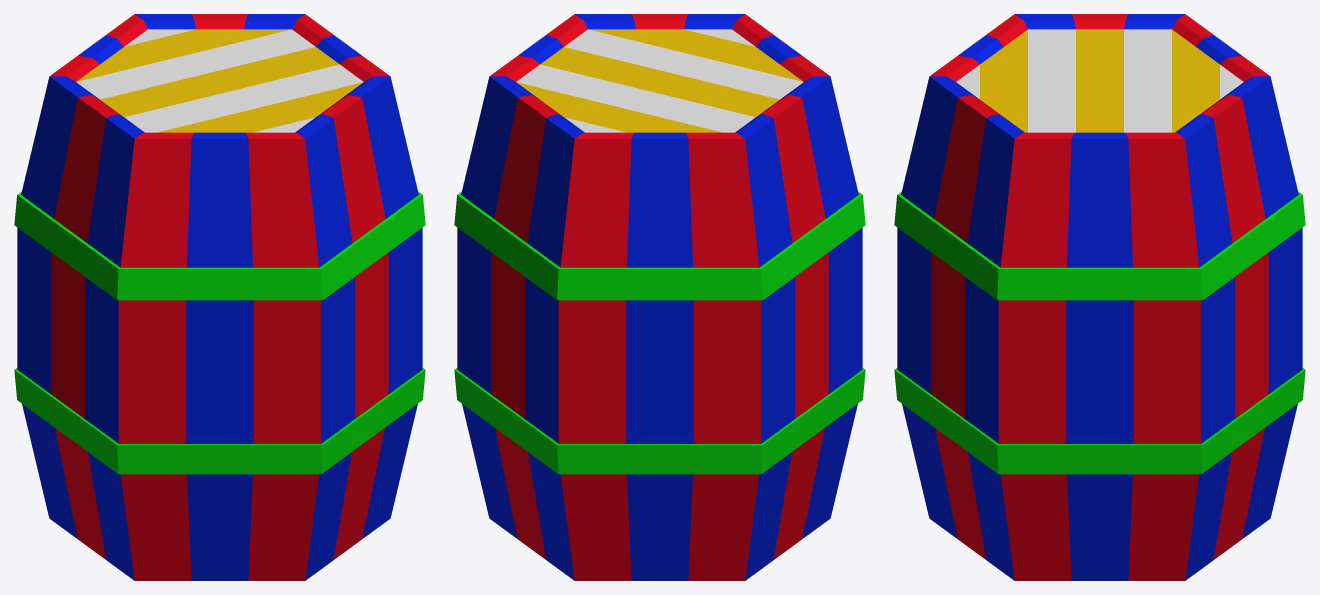
File: barrel_high.fbx
3 views of the same model, side by side, from view 1: azimuth 30°, elevation 25°; view 2: azimuth 150°, elevation 25°; view 3: azimuth 270°, elevation 25° (orthographic).
Parts seen in each view (by area): view 1: Barrel1_High; view 2: Barrel1_High; view 3: Barrel1_High.
Boxes of the visible parts, x1,y1,x2,y2 form: Barrel1_High: (14,14,425,580); Barrel1_High: (454,14,865,580); Barrel1_High: (894,14,1305,580).
Size of the model in its own units: 71.01 by 97.24 by 81.99.
